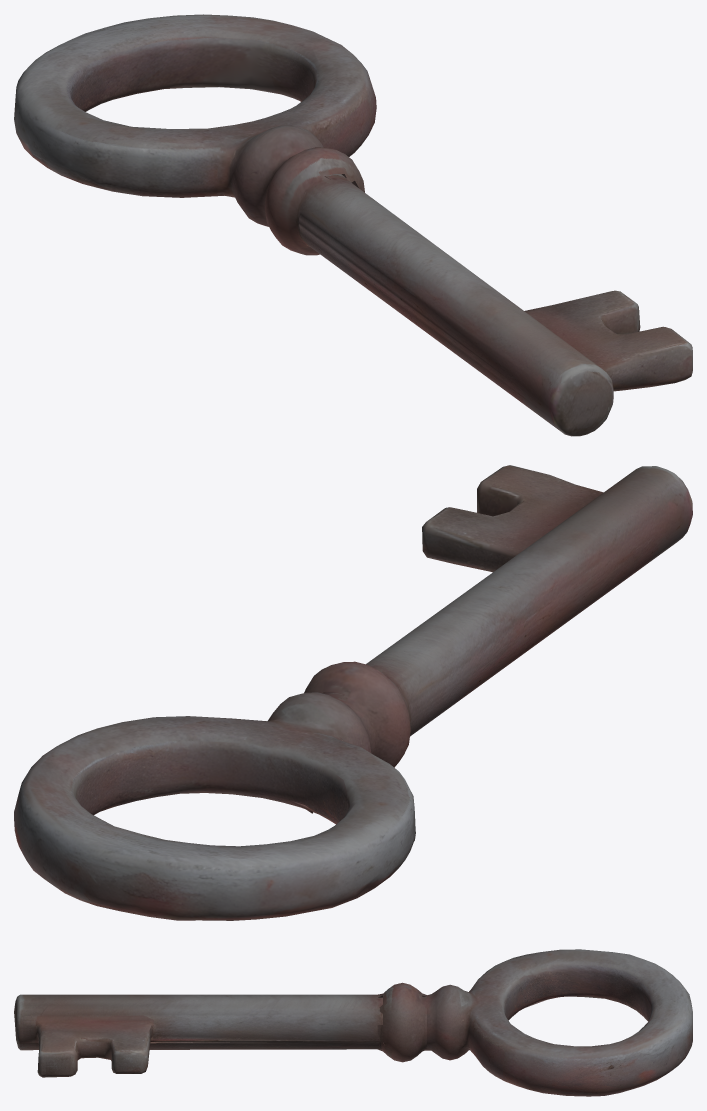
3 views of the same model, one above another, from view 1: azimuth 30°, elevation 25°; view 2: azimuth 150°, elevation 25°; view 3: azimuth 270°, elevation 25° (orthographic). The views are drawn at different scales.
Parts seen in each view (by area): view 1: material; view 2: material; view 3: material.
Part boxes in pixels (bbox=[...]): material: bbox=[14, 14, 692, 436]; material: bbox=[14, 465, 692, 920]; material: bbox=[14, 949, 692, 1096].
Bounding box in the file's own units: 73.42 × 22.46 × 190.
1 material, 1 textured.
